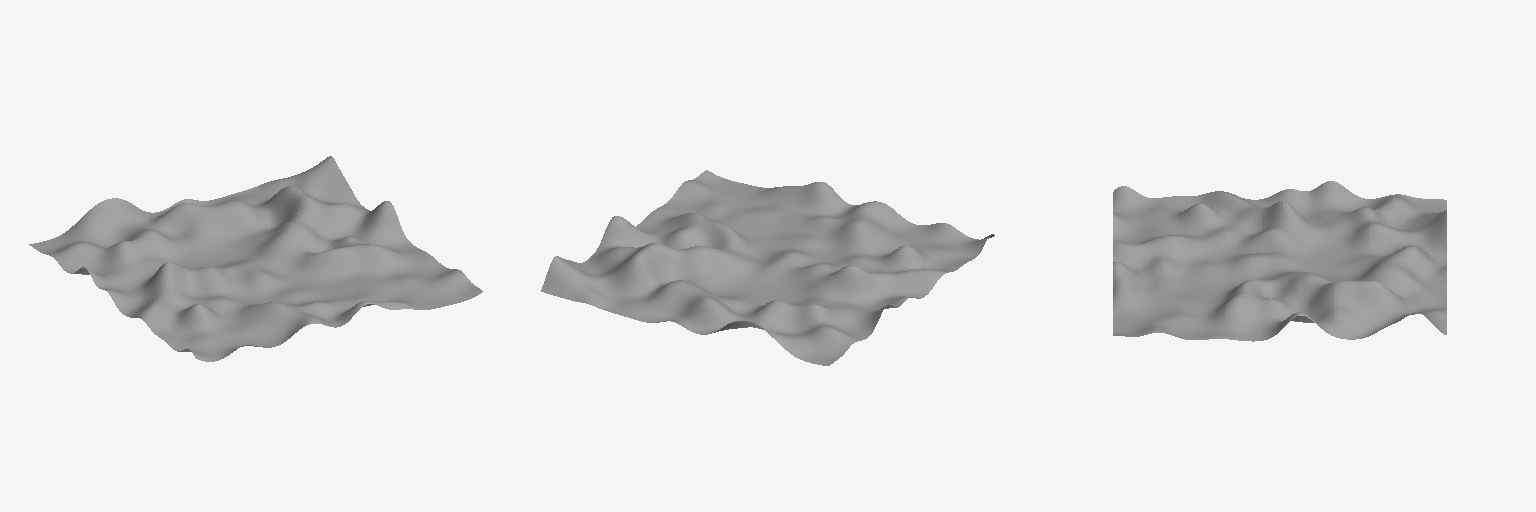
Rendered from terrain2.obj.
3 views of the same model, side by side, from view 1: azimuth 30°, elevation 25°; view 2: azimuth 150°, elevation 25°; view 3: azimuth 270°, elevation 25° (orthographic).
Bounding box in the file's own units: 1.92 × 0.1926 × 1.92.